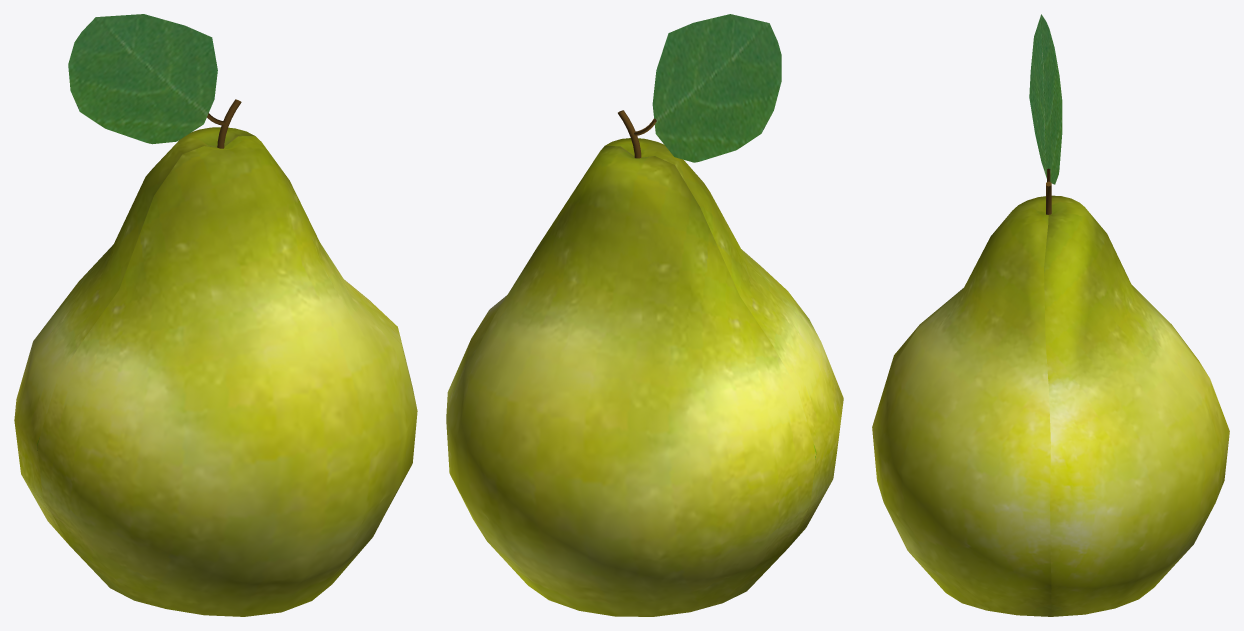
File: pear fbx export.FBX
The picture shows the model from 3 angles, left to right: view 1: azimuth 30°, elevation 25°; view 2: azimuth 150°, elevation 25°; view 3: azimuth 270°, elevation 25°; orthographic projection. The views are drawn at different scales.
Visible parts, largest first — view 1: pear; view 2: pear; view 3: pear.
Boxes of the visible parts, <box> form: pear: <box>14,14,417,616</box>; pear: <box>446,14,843,616</box>; pear: <box>872,14,1229,616</box>.
Size of the model in its own units: 10.9 by 17.69 by 11.02.
